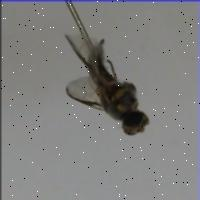Oriental-fruit-fly: (52, 35, 152, 139)
